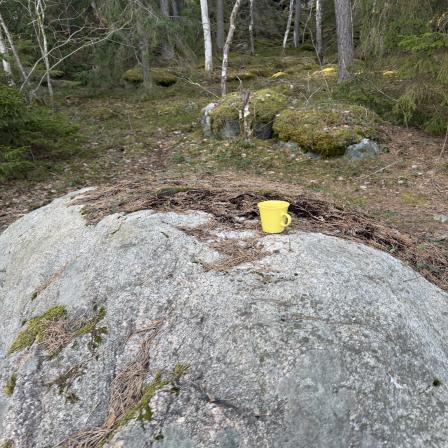yellow_cup: (256, 200, 295, 234)
